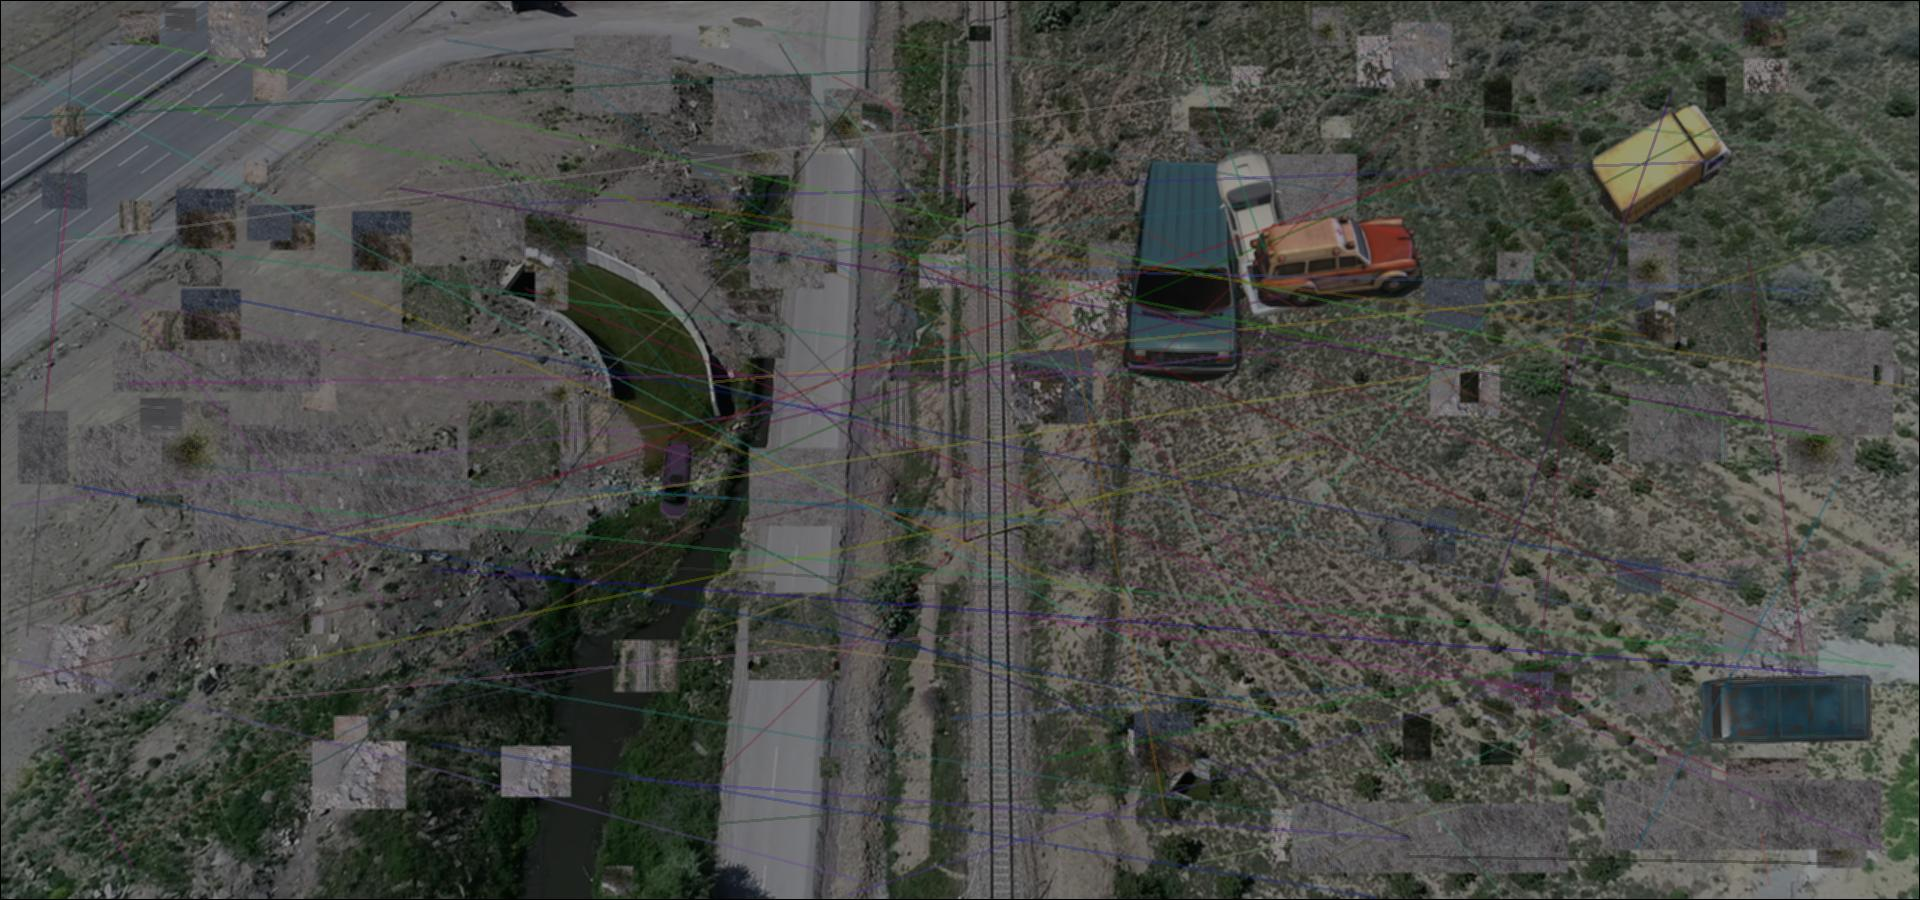arac: (1100, 154, 1256, 386), (1593, 94, 1735, 224), (1209, 144, 1313, 316), (1250, 216, 1425, 307), (1698, 673, 1875, 748), (654, 440, 694, 520)
